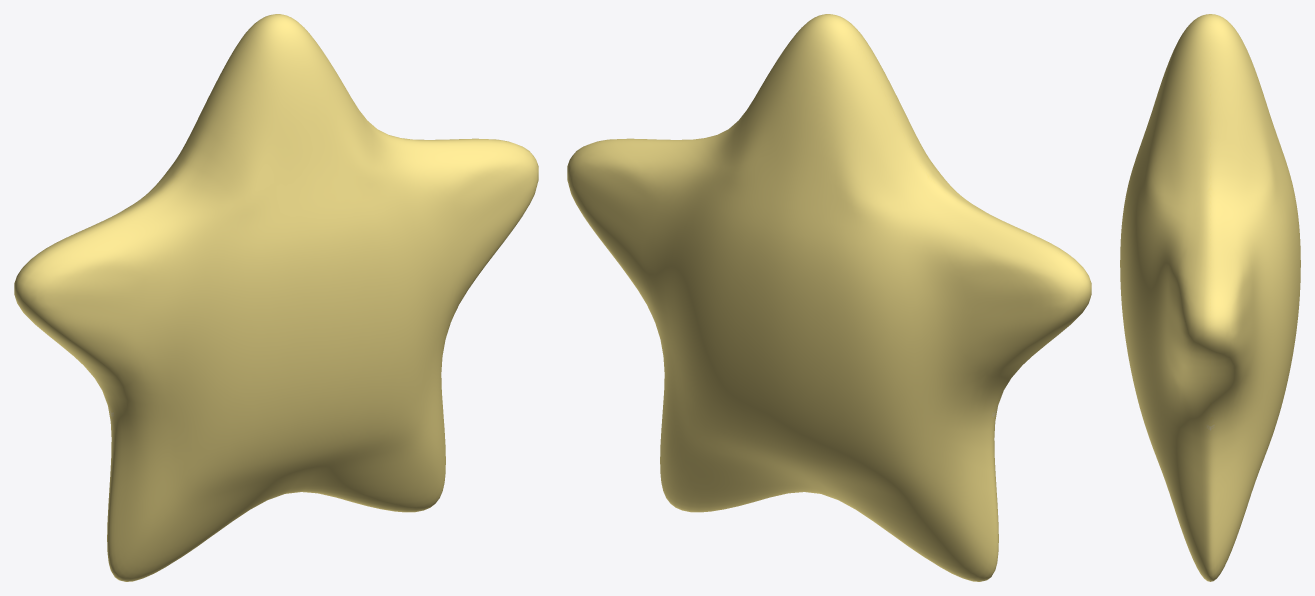
Rendered from kirbyStar-transformed.glb.
3 views of the same model, side by side, from view 1: azimuth 30°, elevation 25°; view 2: azimuth 150°, elevation 25°; view 3: azimuth 270°, elevation 25° (orthographic). The views are drawn at different scales.
Visible parts, largest first — view 1: Roundcube; view 2: Roundcube; view 3: Roundcube.
Boxes of the visible parts, box(x1,y1,x2,y2) form: Roundcube: box(14, 14, 538, 581); Roundcube: box(567, 14, 1091, 581); Roundcube: box(1120, 14, 1300, 581).
Size of the model in its own units: 1.53 by 1.49 by 0.4912.
Materials: 1 (1 with a texture image).
